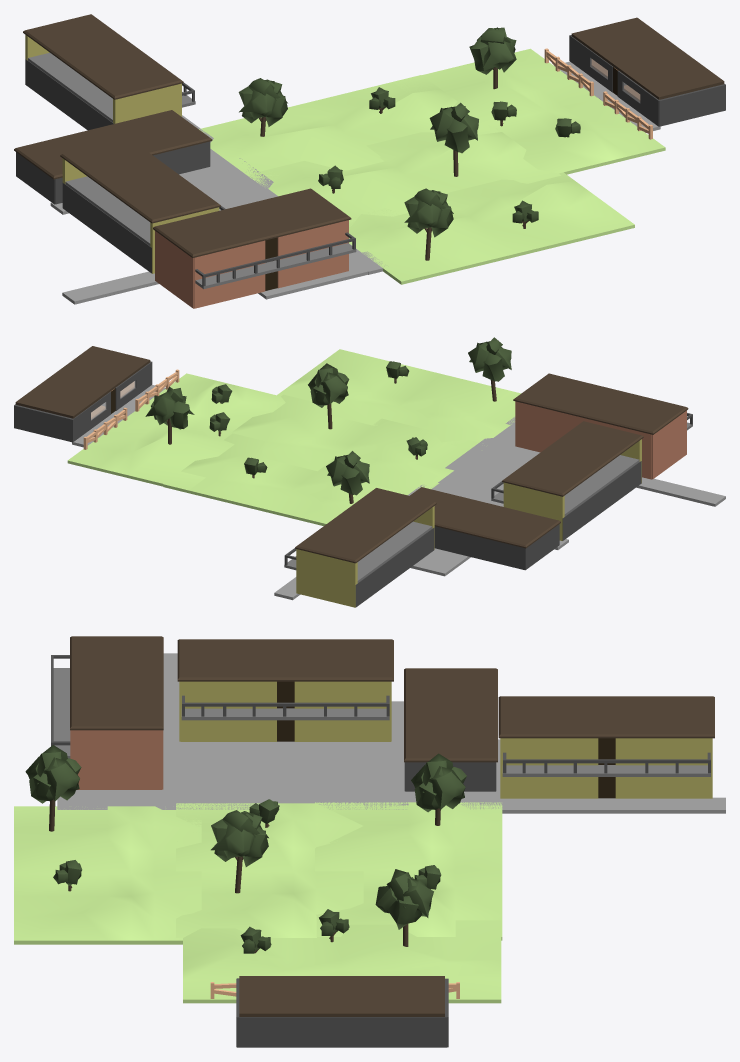
File: fbx_interior_windows.fbx
The picture shows the model from 3 angles, top to bottom: view 1: azimuth 30°, elevation 25°; view 2: azimuth 150°, elevation 25°; view 3: azimuth 270°, elevation 25°; orthographic projection. The views are drawn at different scales.
Parts seen in each view (by area): view 1: Ceiling_Fixed_5 (×5), Grass_4, Grass_1, Grass_3, Grass_2, Store_Back (×2), Store_Front (×2), Floor2 (×2), Concrete_Sidewalk1, Store_Front1, Right1 (×2), Right (×2) (+11 smaller); view 2: Ceiling_Fixed_5 (×5), Grass_4, Grass_2, Grass_1, Grass_3, Store_Back (×3), Concrete_Sidewalk1, Right (×3), Floor2 (×2), Left1 (×2), Concrete_Sidewalk4, Left (+10 smaller); view 3: Ceiling_Fixed_5 (×5), Grass_4, Grass_3, Grass_2, Grass_1, Concrete_Sidewalk1, Store_Front1 (×2), Store_Front (×2), Store_Back, Floor3 (×3), Concrete_Sidewalk4, Left (×2) (+6 smaller).
Part boxes in pixels (x1,y1,x2,y2): Ceiling_Fixed_5 (×5): (14, 14, 724, 257); Grass_4: (349, 172, 634, 284); Grass_1: (393, 48, 665, 174); Grass_3: (199, 75, 499, 185); Grass_2: (249, 132, 560, 226); Store_Back (×2): (25, 59, 151, 273); Store_Front (×2): (55, 141, 348, 308); Floor2 (×2): (28, 52, 150, 245); Concrete_Sidewalk1: (179, 152, 371, 299); Store_Front1: (194, 220, 348, 282); Right1 (×2): (113, 83, 194, 282); Right (×2): (16, 152, 194, 308); Ceiling_Fixed_5 (×5): (15, 346, 688, 563); Grass_4: (277, 349, 520, 448); Grass_2: (222, 394, 479, 493); Grass_1: (67, 373, 285, 489); Grass_3: (163, 433, 439, 525); Store_Back (×3): (355, 461, 641, 607); Concrete_Sidewalk1: (410, 431, 540, 576); Right (×3): (14, 404, 686, 570); Floor2 (×2): (357, 455, 639, 582); Left1 (×2): (296, 482, 564, 585); Concrete_Sidewalk4: (274, 417, 515, 600); Left: (296, 571, 355, 607); Ceiling_Fixed_5 (×5): (70, 636, 714, 1016); Grass_4: (14, 806, 201, 944); Grass_3: (315, 802, 502, 940); Grass_2: (176, 803, 363, 937); Grass_1: (183, 920, 501, 1003); Concrete_Sidewalk1: (58, 739, 558, 799); Store_Front1 (×2): (180, 681, 711, 768); Store_Front (×2): (180, 711, 711, 798); Store_Back: (237, 1017, 447, 1047); Floor3 (×3): (53, 668, 710, 776); Concrete_Sidewalk4: (57, 797, 725, 813); Left (×2): (74, 759, 495, 791).
Bounding box in the file's own units: 19336 × 2185 × 14760.
